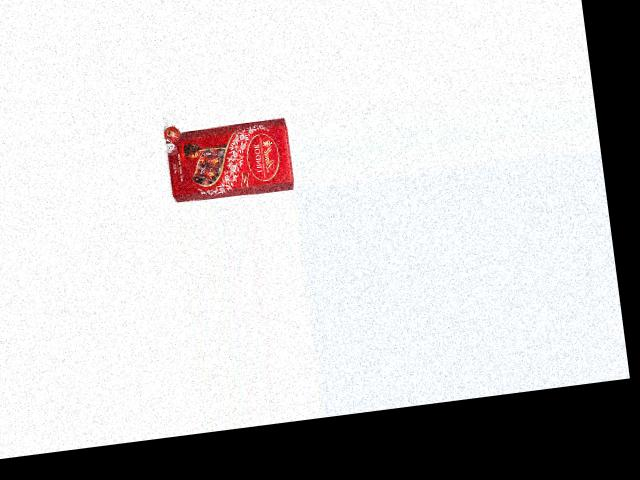chocolate: (164, 110, 294, 203)
